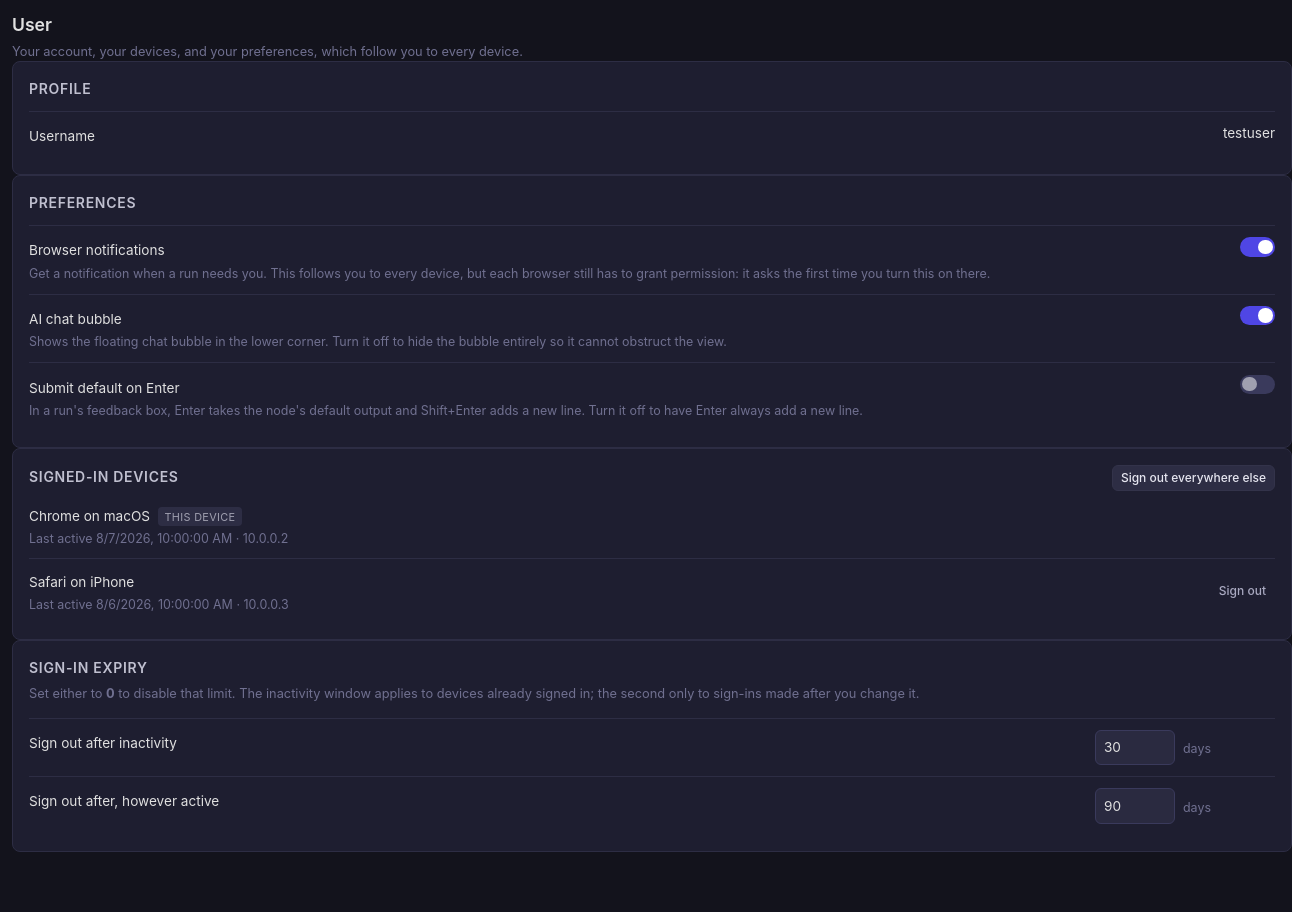
Test: User settings signed-in devices › revokes a device and reloads the list
Click the button with aria-label "sign out safari on iphone".
click(1242, 591)  # box x1=1210 y1=578 x2=1275 y2=604
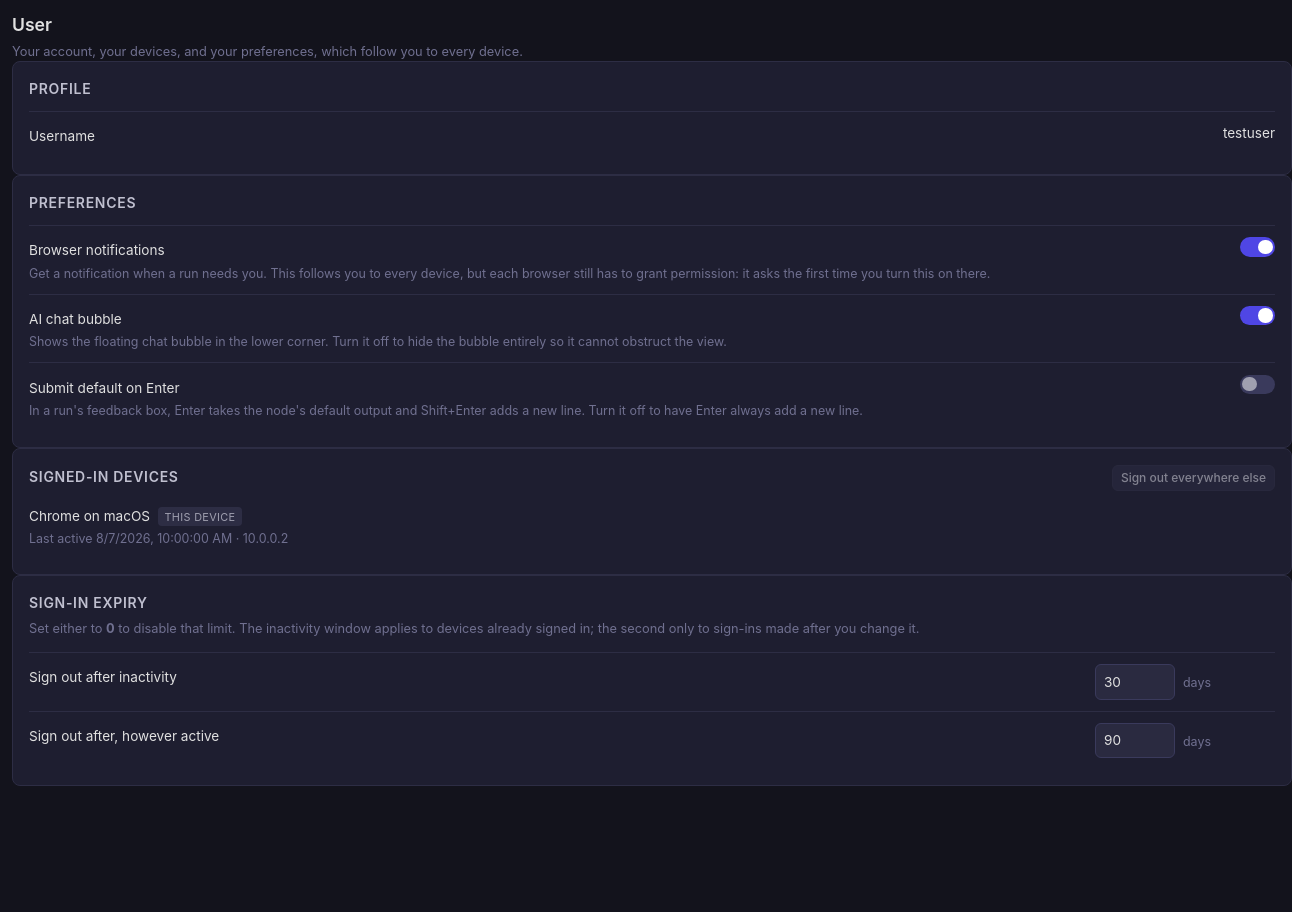
Check: the text "Safari on iPhone" is gone
